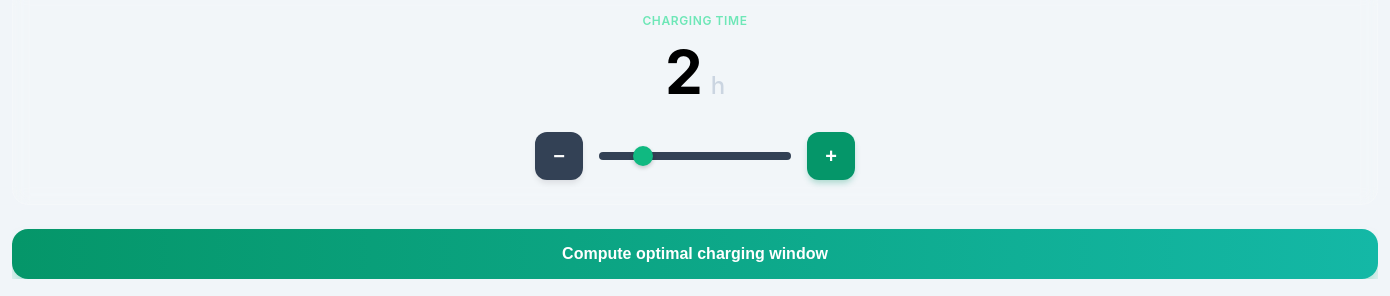
Test case: ChargingForm › should increase hours when + button is clicked
Click the button "+". click: (831, 156)
box: x1=807 y1=132 x2=855 y2=180
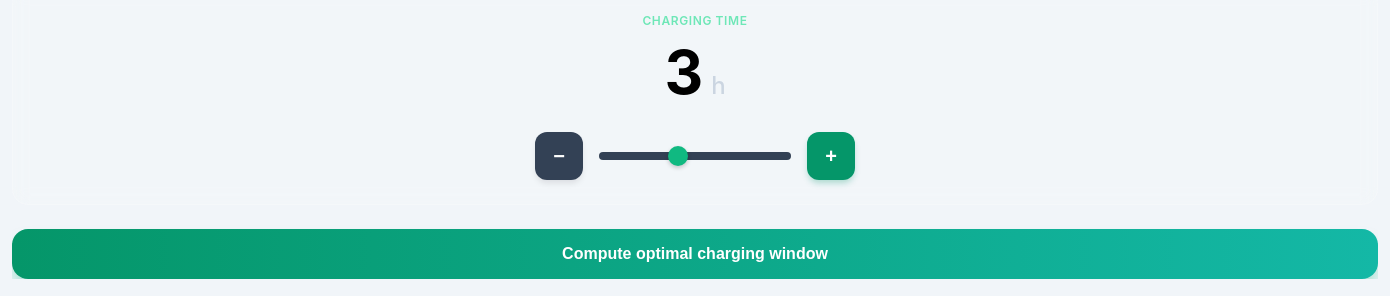
Now the text "3" is shown, box x1=664 y1=36 x2=703 y2=108
